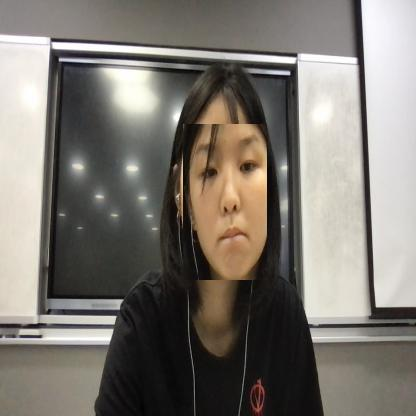sad: (183, 124, 268, 281)
